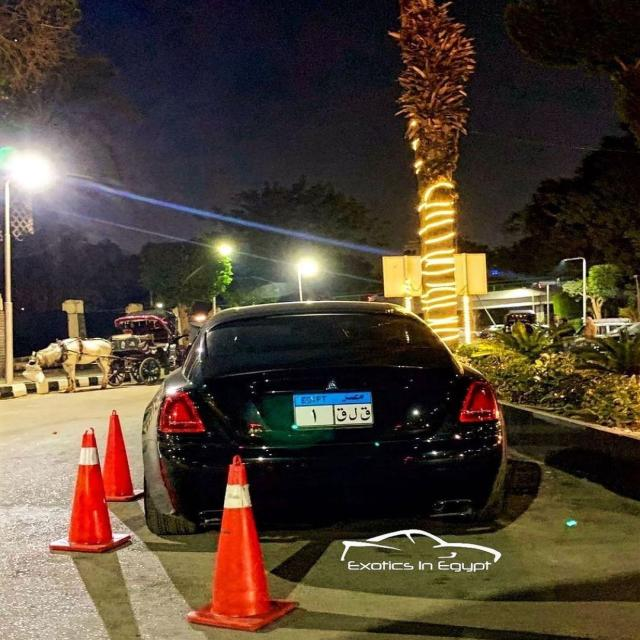License Plate: (292, 390, 375, 428)
